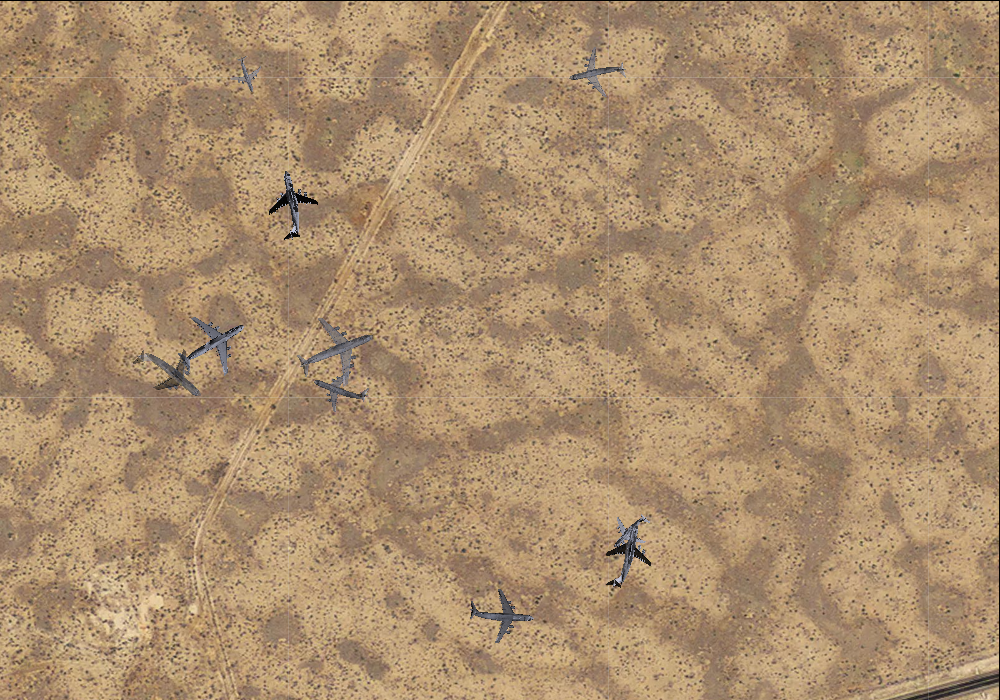plane: (285, 301, 387, 400), (119, 326, 218, 424), (164, 297, 260, 392), (252, 165, 326, 245), (589, 516, 661, 595), (305, 354, 375, 422), (563, 40, 631, 106), (467, 582, 535, 647), (599, 501, 660, 562), (223, 50, 269, 97)
